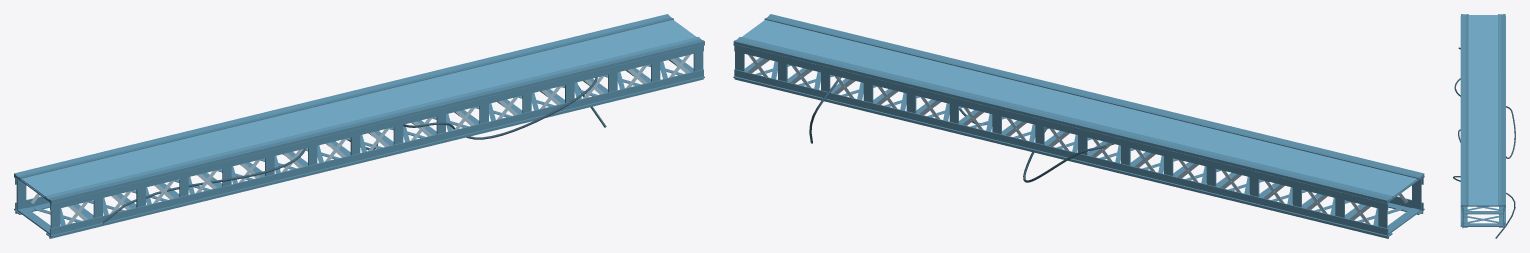
File: Platform_1.fbx
3 renders of one model, left to right at view 1: azimuth 30°, elevation 25°; view 2: azimuth 150°, elevation 25°; view 3: azimuth 270°, elevation 25°, orthographic. The views are drawn at different scales.
Parts seen in each view (by area): view 1: Platform1_high2; view 2: Platform1_high2; view 3: Platform1_high2.
Part boxes in pixels (<box>): Platform1_high2: <box>14,14,704,238</box>; Platform1_high2: <box>733,14,1424,238</box>; Platform1_high2: <box>1453,14,1515,238</box>.
Size of the model in its own units: 2060 by 274 by 287.
